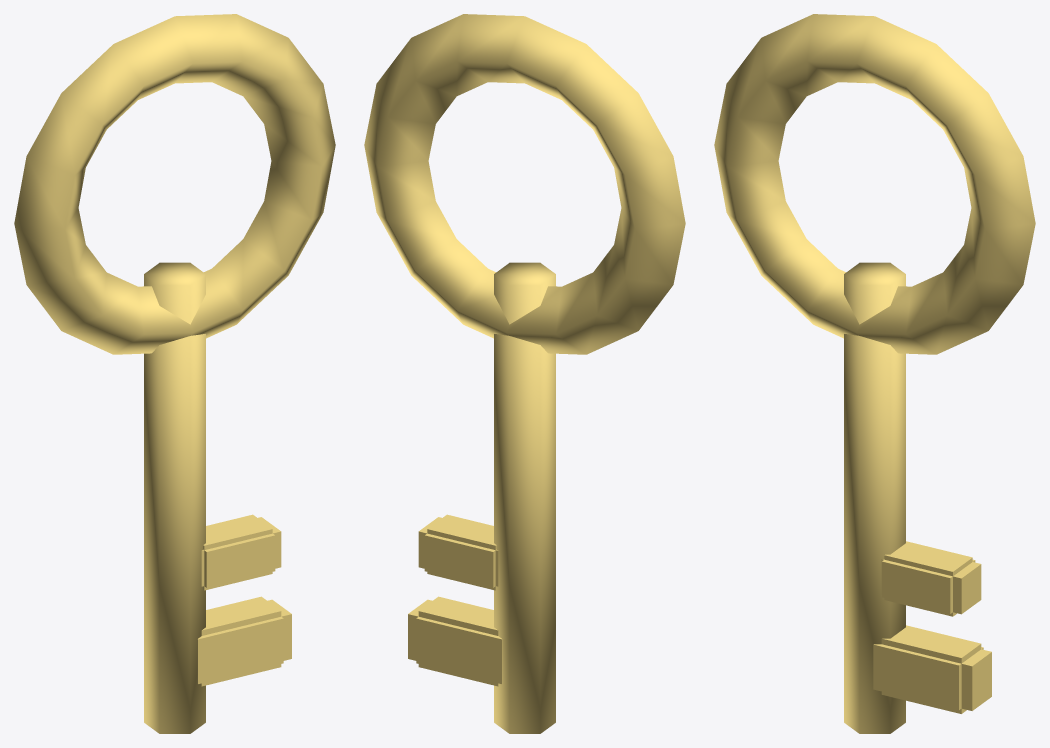
Rendered from misc_key_0.glb.
3 renders of one model, left to right at view 1: azimuth 30°, elevation 25°; view 2: azimuth 150°, elevation 25°; view 3: azimuth 330°, elevation 25°, orthographic.
Parts seen in each view (by area): view 1: torus; view 2: torus; view 3: torus.
Part boxes in pixels (left/top/right/bottom): torus: left=14, top=14, right=335, bottom=733; torus: left=364, top=14, right=685, bottom=733; torus: left=714, top=14, right=1035, bottom=733.
Size of the model in its own units: 0.3 by 0.63 by 0.06.
